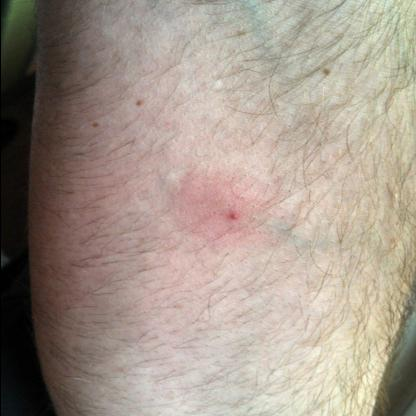Fire ant: (206, 197, 250, 231)
